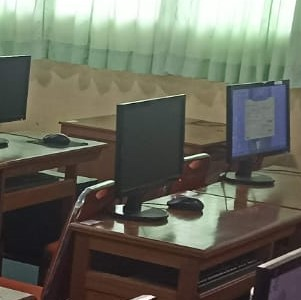monitor: (114, 93, 186, 200), (226, 80, 291, 165), (0, 55, 31, 125)
